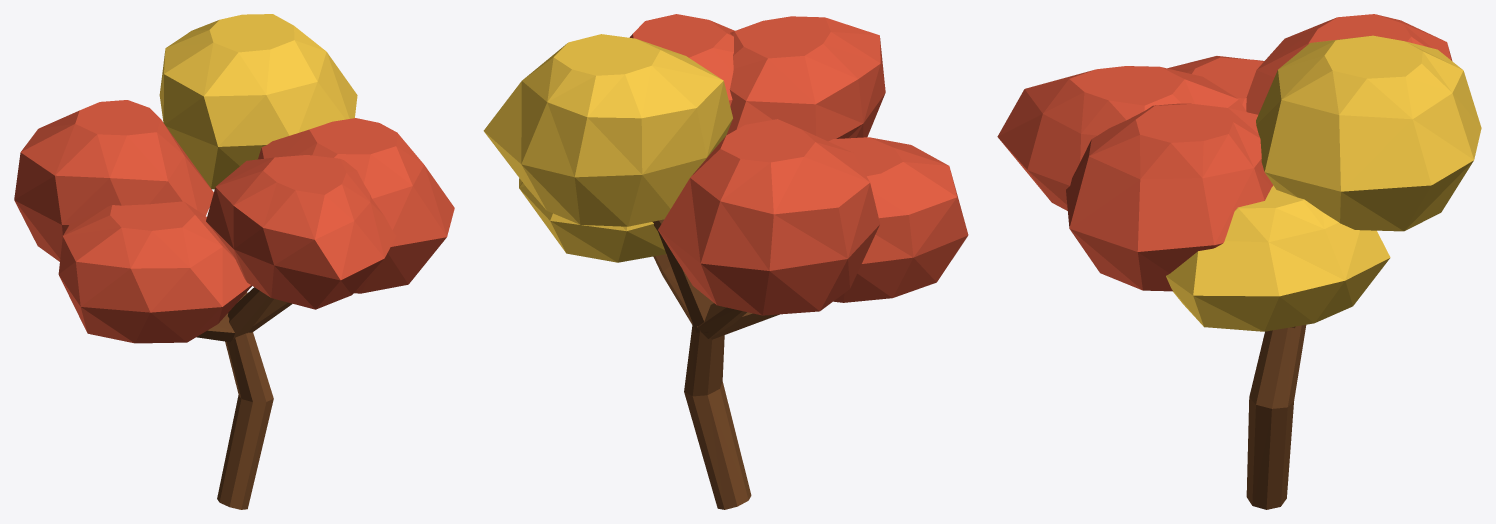
The model's file is maple_orange_tree.fbx.
The picture shows the model from 3 angles, left to right: view 1: azimuth 30°, elevation 25°; view 2: azimuth 150°, elevation 25°; view 3: azimuth 270°, elevation 25°; orthographic projection. The views are drawn at different scales.
Parts seen in each view (by area): view 1: maple_orange_tree; view 2: maple_orange_tree; view 3: maple_orange_tree.
Part boxes in pixels (x1=…): maple_orange_tree: x1=14, y1=14, x2=454, y2=509; maple_orange_tree: x1=483, y1=14, x2=968, y2=509; maple_orange_tree: x1=997, y1=14, x2=1481, y2=509.
Bounding box in the file's own units: 10 × 11 × 10.
